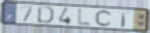4: (58, 7, 73, 26)
7: (19, 5, 34, 23)
C: (94, 9, 114, 27)
D: (36, 5, 55, 25)
L: (76, 7, 93, 27)
T: (117, 11, 132, 28)
